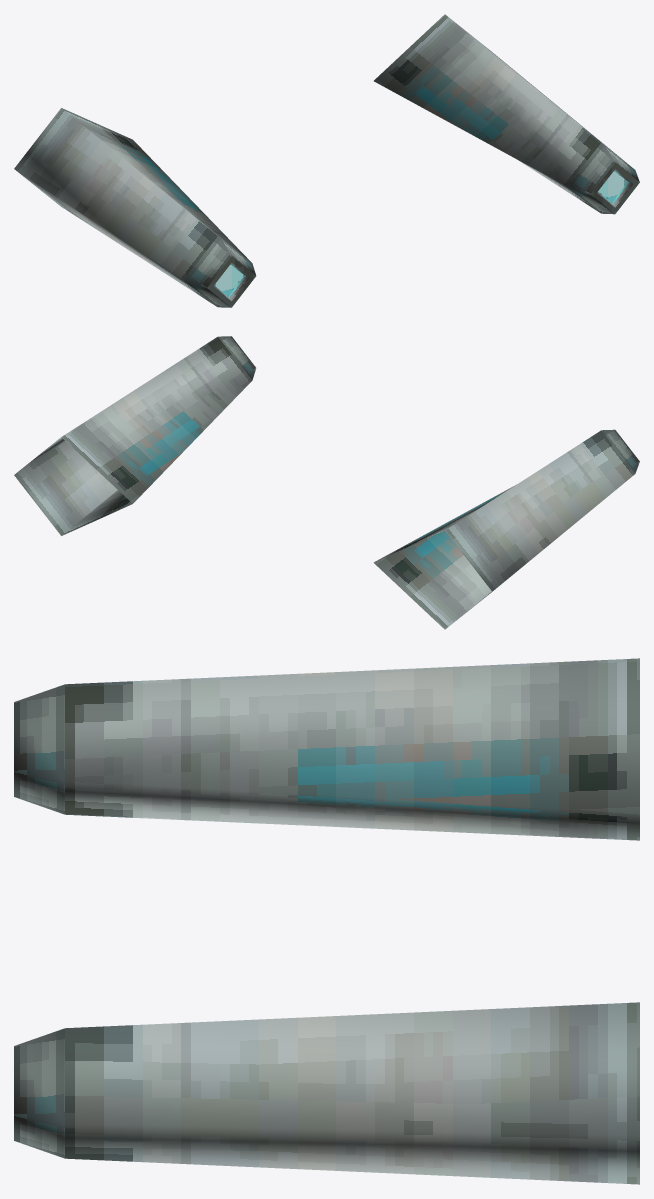
The model's file is ywing_weapon1_s02_l2.fbx.
The picture shows the model from 3 angles, top to bottom: view 1: azimuth 30°, elevation 25°; view 2: azimuth 150°, elevation 25°; view 3: azimuth 270°, elevation 25°; orthographic projection. The views are drawn at different scales.
Visible parts, largest first — view 1: mesh_node; view 2: mesh_node; view 3: mesh_node.
Part boxes in pixels (<box>): mesh_node: <box>14,14,639,307</box>; mesh_node: <box>14,336,639,629</box>; mesh_node: <box>14,658,639,1184</box>.
Bounding box in the file's own units: 1.66 × 0.3282 × 1.02.
Materials: 1 (1 with a texture image).
